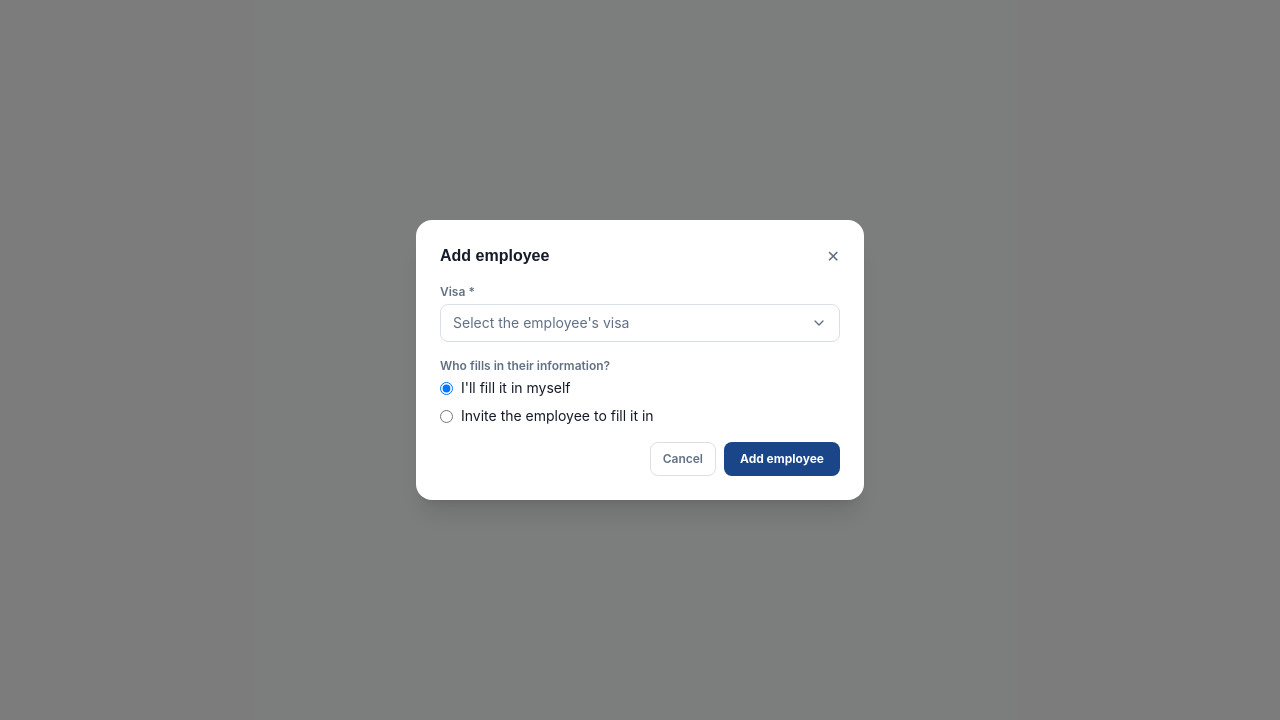
client portal Add employee - the same visa dropdown as Admin › the list can be searched, like the Admin dropdown
Click the button labelled "Select the employee's visa": [541, 322] box [440,304,840,342]
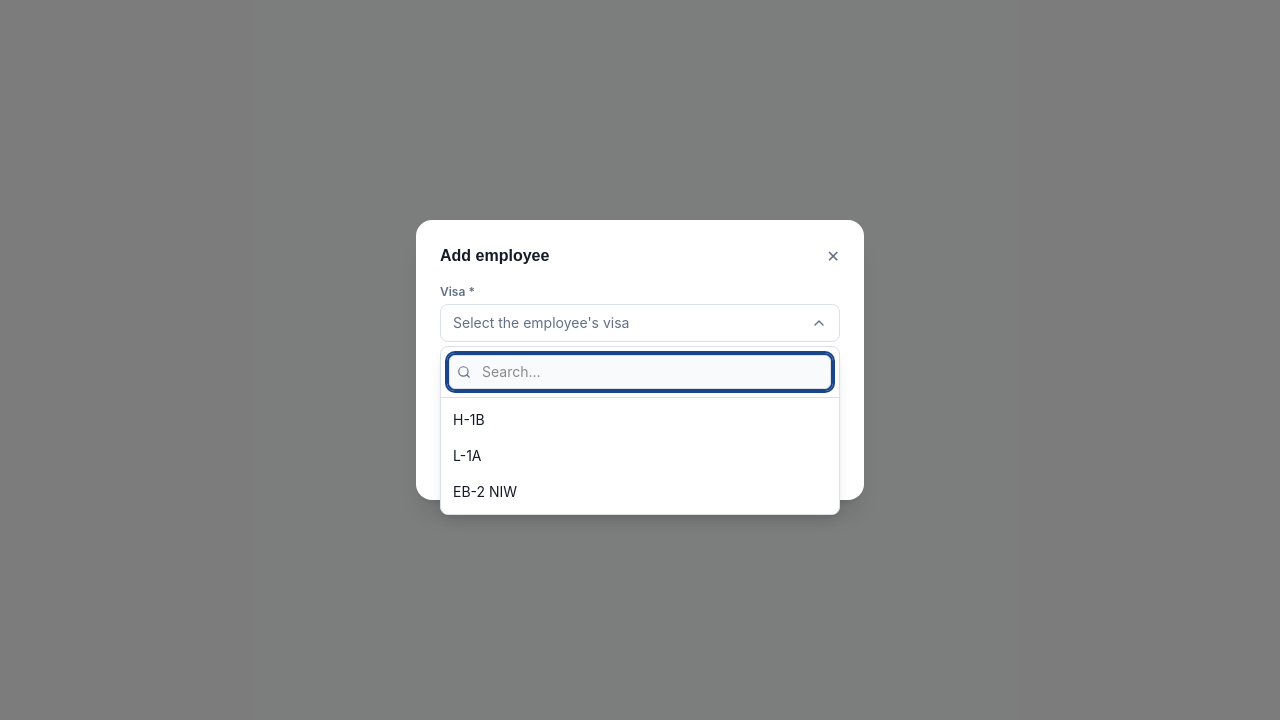
Check: the option "L-1A" is shown, box [441,438,839,474]
In the field with placeholder "Search…": [640, 372] box [449,355,831,389], type "niw"
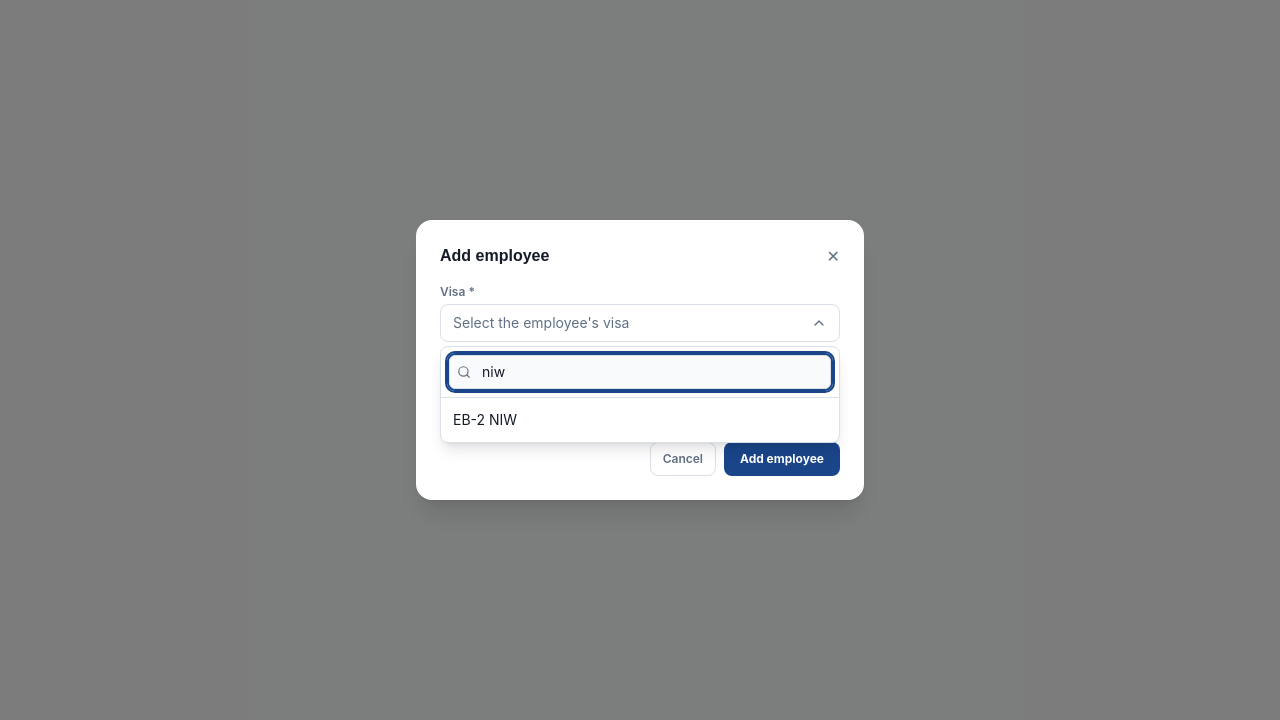
Check: the option "EB-2 NIW" is shown, box [441,402,839,438]
Check: the option "L-1A" is gone
